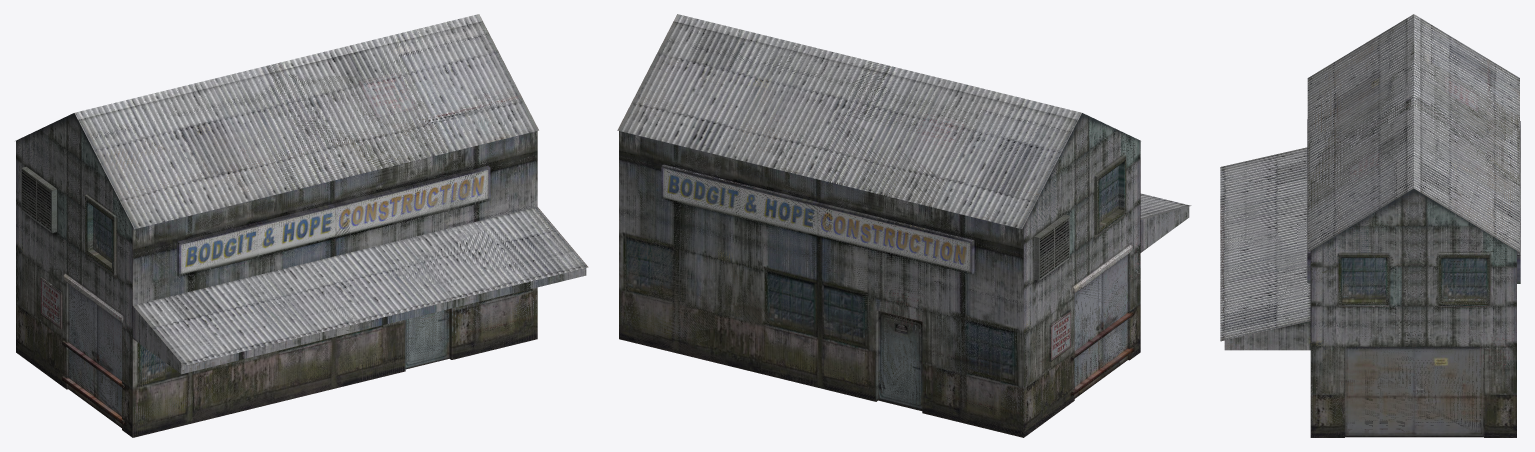
Rendered from Old Factory.fbx.
The picture shows the model from 3 angles, left to right: view 1: azimuth 30°, elevation 25°; view 2: azimuth 150°, elevation 25°; view 3: azimuth 270°, elevation 25°; orthographic projection. The views are drawn at different scales.
Visible parts, largest first — view 1: Model; view 2: Model; view 3: Model.
Part boxes in pixels (x1,y1,x2,y2): Model: [15, 14, 588, 437]; Model: [617, 14, 1191, 437]; Model: [1220, 14, 1520, 437].
Bounding box in the file's own units: 386 × 252 × 275.
